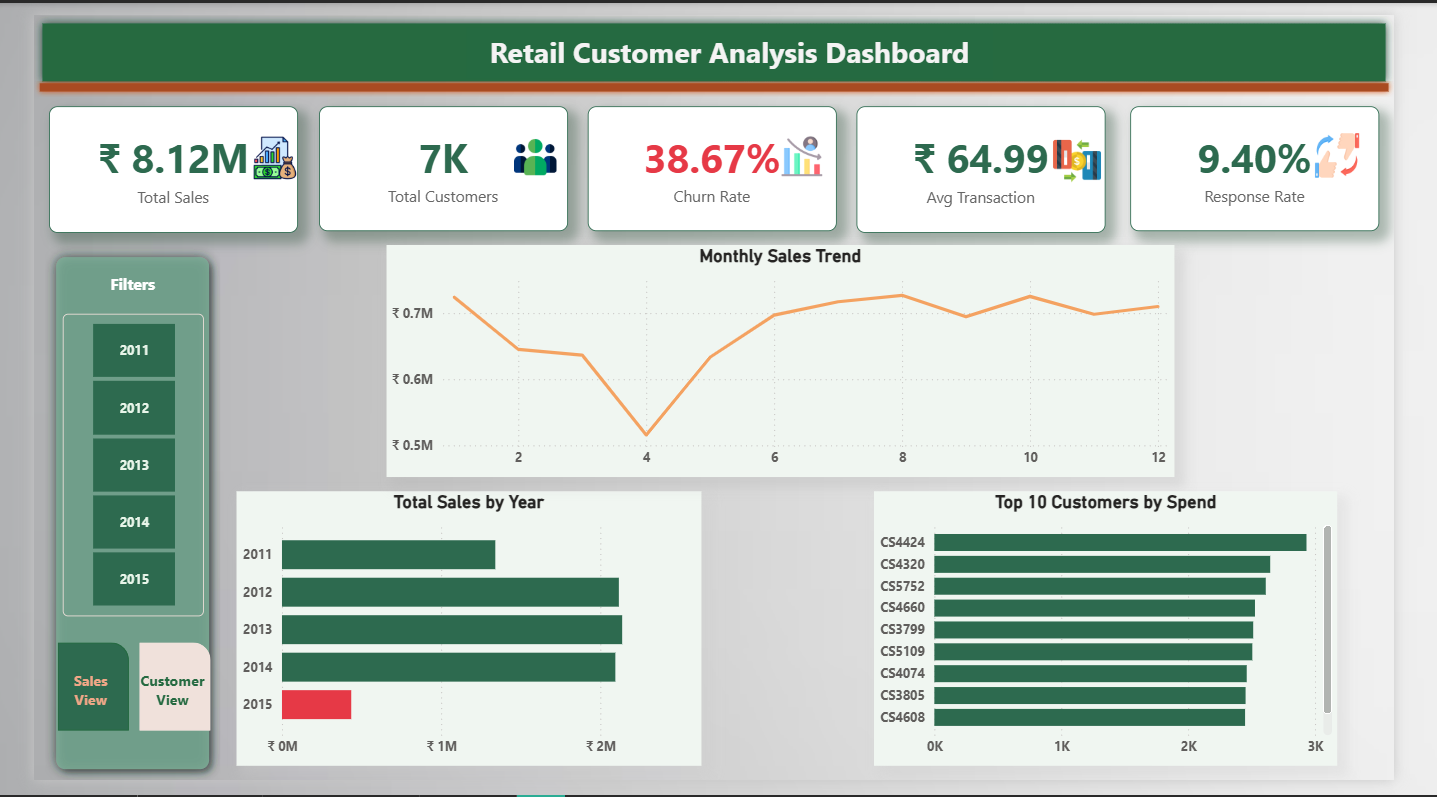

What the dashboard file says about the page in this screenshot:
{"tool":"powerbi","page":{"name":"Dashboard","canvas":[1280,720],"ordinal":0},"visuals":[{"type":"shape","box":[10.2,217.8,164.5,502.5],"z":0},{"type":"shape","box":[0,0,1280,70.6],"z":1000},{"type":"textbox","box":[407,11.6,495.4,47.7],"z":2000},{"type":"shape","box":[0,59.3,1280.2,18.6],"z":3000},{"type":"cardVisual","fields":{"Data":["clean_customer_summary.Total Sales"]},"box":[13.6,86.2,234.8,119.1],"z":4000},{"type":"cardVisual","fields":{"Data":["clean_customer_summary.Total Customers"]},"box":[268.8,86.2,234.8,118],"z":5000},{"type":"cardVisual","fields":{"Data":["clean_customer_summary.Response Rate"]},"box":[1032.1,86.2,234.8,118],"z":6000},{"type":"cardVisual","fields":{"Data":["clean_customer_summary.Churn Rate"]},"box":[521.7,86.2,234.8,118],"z":7000},{"type":"cardVisual","fields":{"Data":["clean_customer_summary.Avg Transaction"]},"box":[773.5,86.2,234.8,119.1],"z":8000},{"type":"clusteredBarChart","title":"Total Sales by Year","fields":{"Category":["clean_transactions.trans_year"],"Y":["clean_customer_summary.Total Sales"]},"box":[190,448.8,437.5,258.8],"z":9000},{"type":"lineChart","title":"Monthly Sales Trend","fields":{"Category":["clean_transactions.trans_month"],"Y":["clean_customer_summary.Total Sales"]},"box":[331.2,216.2,741.2,218.8],"z":10000},{"type":"clusteredBarChart","title":"Top 10 Customers by Spend","fields":{"Y":["Sum(clean_customer_summary.total_spent)"],"Category":["clean_customer_summary.customer_id"]},"box":[790,448.8,436.2,258.8],"z":11000},{"type":"donutChart","fields":{"Category":["clean_customer_summary.Churn Status"],"Y":["clean_customer_summary.Total Customers"]},"box":[790,448.8,438.8,258.8],"z":12000},{"type":"donutChart","title":"Campaign Response Rate","fields":{"Y":["CountNonNull(clean_response.customer_id)"],"Category":["clean_response.Response Label"]},"box":[187.5,448.8,438.8,258.8],"z":13000},{"type":"actionButton","box":[23.8,645.4,138.4,37.4],"z":14000},{"type":"slicer","fields":{"Values":["clean_transactions.trans_year"]},"box":[27.2,281.3,132.7,284.7],"z":15000},{"type":"actionButton","box":[23.8,593.2,138.4,37.4],"z":16000},{"type":"textbox","box":[57.8,238.2,70.3,30.6],"z":17000},{"type":"image","box":[204.2,114.6,44.2,40.8],"z":17001},{"type":"image","box":[451.4,112.3,39.7,44.2],"z":17002},{"type":"image","box":[702.1,112.3,40.8,42],"z":17003},{"type":"image","box":[955,114.6,53.3,46.5],"z":17004},{"type":"image","box":[1200,111.2,53.3,43.1],"z":17005}]}

Visuals, with their boxes in screenshot pixels (x1, y1, x2, y2), scaled from the page's 1280x720 canvas onto the 1437x797 screenshot:
shape: (11, 241, 196, 796)
shape: (0, 0, 1436, 78)
textbox: (457, 13, 1013, 66)
shape: (0, 66, 1436, 86)
cardVisual - clean_customer_summary.Total Sales: (15, 95, 279, 227)
cardVisual - clean_customer_summary.Total Customers: (302, 95, 565, 226)
cardVisual - clean_customer_summary.Response Rate: (1159, 95, 1422, 226)
cardVisual - clean_customer_summary.Churn Rate: (586, 95, 849, 226)
cardVisual - clean_customer_summary.Avg Transaction: (868, 95, 1132, 227)
"Total Sales by Year" clusteredBarChart: (213, 497, 704, 783)
"Monthly Sales Trend" lineChart: (372, 239, 1204, 482)
"Top 10 Customers by Spend" clusteredBarChart: (887, 497, 1377, 783)
donutChart - clean_customer_summary.Churn Status x clean_customer_summary.Total Customers: (887, 497, 1380, 783)
"Campaign Response Rate" donutChart: (210, 497, 703, 783)
actionButton: (27, 714, 182, 756)
slicer - clean_transactions.trans_year: (31, 311, 180, 627)
actionButton: (27, 657, 182, 698)
textbox: (65, 264, 144, 298)
image: (229, 127, 279, 172)
image: (507, 124, 551, 173)
image: (788, 124, 834, 171)
image: (1072, 127, 1132, 178)
image: (1347, 123, 1407, 171)
